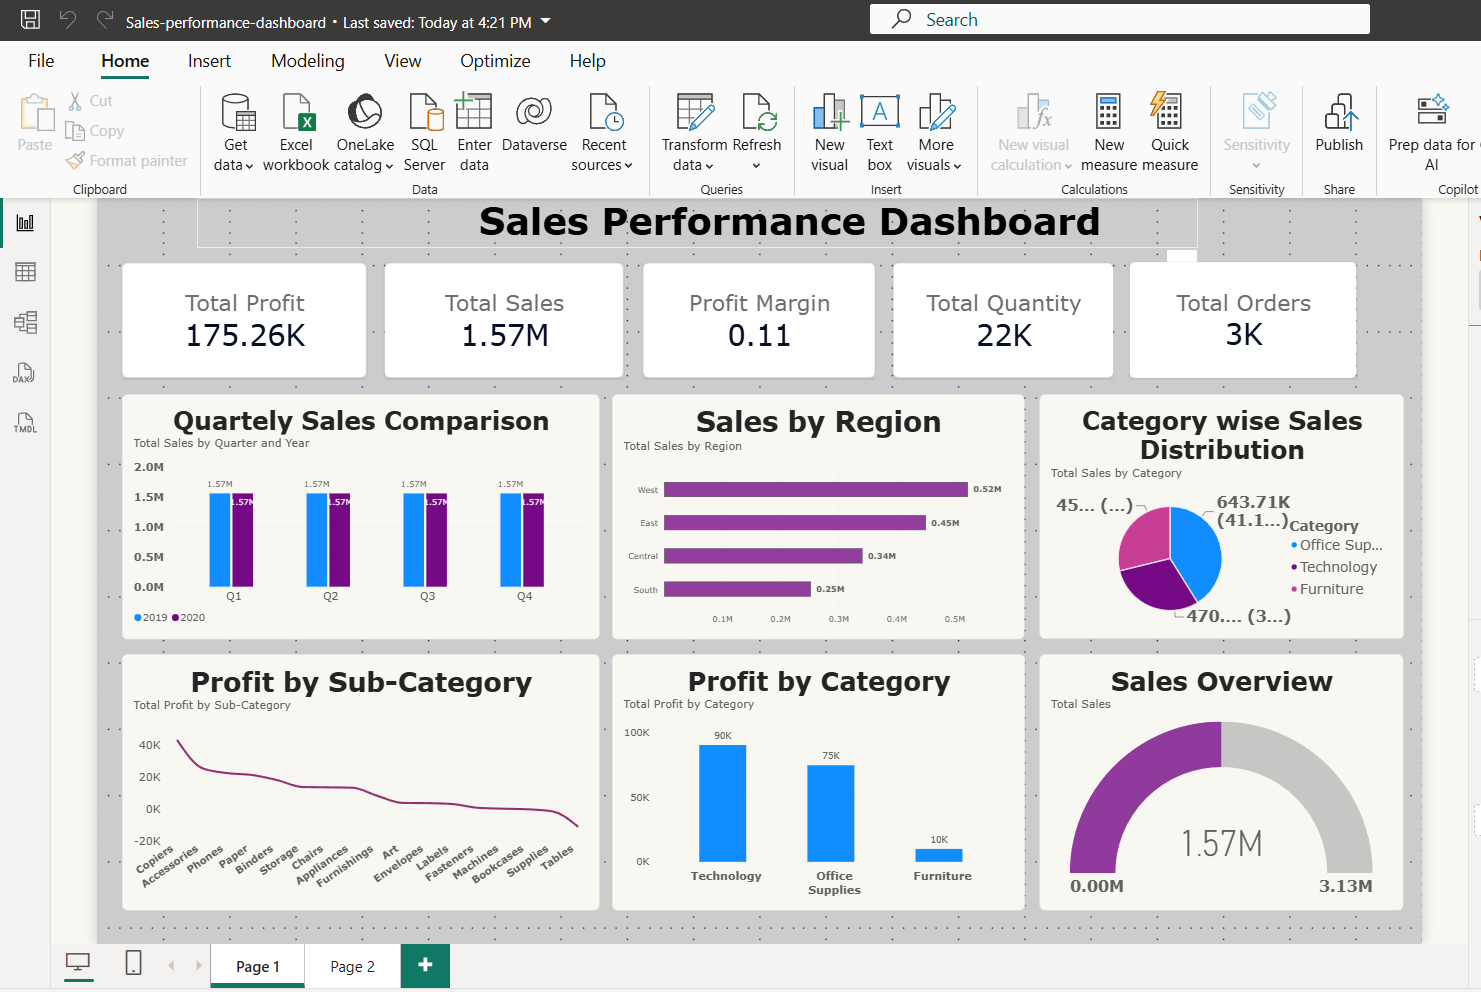

Layout of this report page (visuals, bound fields, positions):
{"tool":"powerbi","page":{"name":"Page 1","canvas":[1920,1080],"ordinal":0},"visuals":[{"type":"textbox","box":[144,0,1452.5,73],"z":0},{"type":"clusteredColumnChart","title":"Quartely Sales Comparison","fields":{"Category":["DateTable.Quarter"],"Y":["DateTable.Total Sales"],"Series":["DateTable.Year"]},"box":[36.2,284.4,691.9,355],"z":1000},{"type":"barChart","title":"Sales by Region","fields":{"Category":["SuperStore_Sales_Dataset.Region"],"Y":["DateTable.Total Sales"]},"box":[746.3,284.4,597.7,355],"z":2000},{"type":"cardVisual","fields":{"Data":["DateTable.Total Profit"]},"box":[35.5,93.9,354.8,167],"z":3000},{"type":"cardVisual","fields":{"Data":["DateTable.Total Sales"]},"box":[417.4,93.9,346.4,167],"z":4000},{"type":"cardVisual","fields":{"Data":["DateTable.Profit Margin"]},"box":[791,93.9,336,167],"z":5000},{"type":"cardVisual","fields":{"Data":["DateTable.Total Quantity"]},"box":[1154.1,93.9,319.3,167],"z":6000},{"type":"cardVisual","fields":{"Data":["DateTable.Total Orders"]},"box":[1496.3,91.8,329.7,169],"z":7000},{"type":"pieChart","title":"Category wise Sales Distribution","fields":{"Category":["SuperStore_Sales_Dataset.Category"],"Y":["DateTable.Total Sales"]},"box":[1364.9,283.8,528,354.8],"z":8000},{"type":"gauge","title":"Sales Overview","fields":{"Y":["DateTable.Total Sales"]},"box":[1365.7,661.1,527.1,371.3],"z":9000},{"type":"lineChart","title":"Profit by Sub-Category","fields":{"Category":["SuperStore_Sales_Dataset.Sub-Category"],"Y":["DateTable.Total Profit"]},"box":[36.2,661.1,691.9,371.3],"z":10000},{"type":"clusteredColumnChart","title":"Profit by Category","fields":{"Category":["SuperStore_Sales_Dataset.Category"],"Y":["DateTable.Total Profit"]},"box":[746,661,598,371],"z":11000}]}

Visuals, with their boxes on the page's 1920x1080 design canvas (x1, y1, x2, y2). These are canvas units, not pixel positions in the 1481x992 screenshot, which may show the page scaled, cropped or inside an application window:
textbox: 144,0,1596,73
"Quartely Sales Comparison" clusteredColumnChart: 36,284,728,639
"Sales by Region" barChart: 746,284,1344,639
cardVisual - DateTable.Total Profit: 36,94,390,261
cardVisual - DateTable.Total Sales: 417,94,764,261
cardVisual - DateTable.Profit Margin: 791,94,1127,261
cardVisual - DateTable.Total Quantity: 1154,94,1473,261
cardVisual - DateTable.Total Orders: 1496,92,1826,261
"Category wise Sales Distribution" pieChart: 1365,284,1893,639
"Sales Overview" gauge: 1366,661,1893,1032
"Profit by Sub-Category" lineChart: 36,661,728,1032
"Profit by Category" clusteredColumnChart: 746,661,1344,1032
